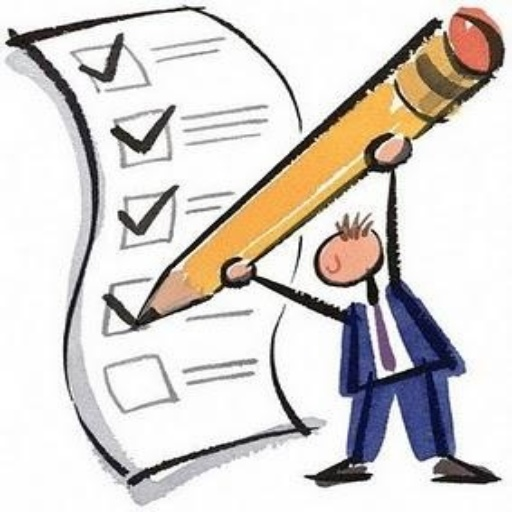hand: (370, 131, 412, 171), (218, 252, 256, 291)
